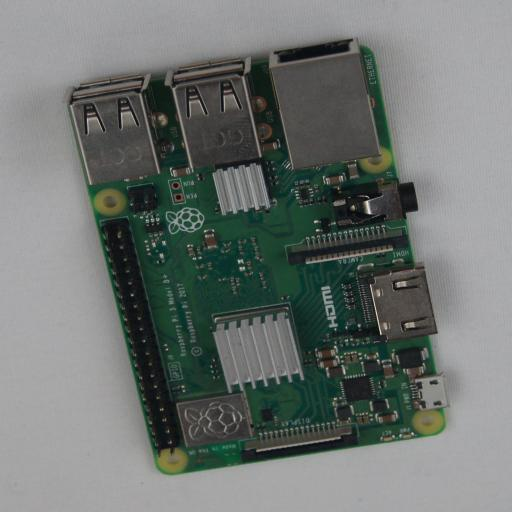Raspberry Pi 3 B-: (67, 37, 447, 475)
